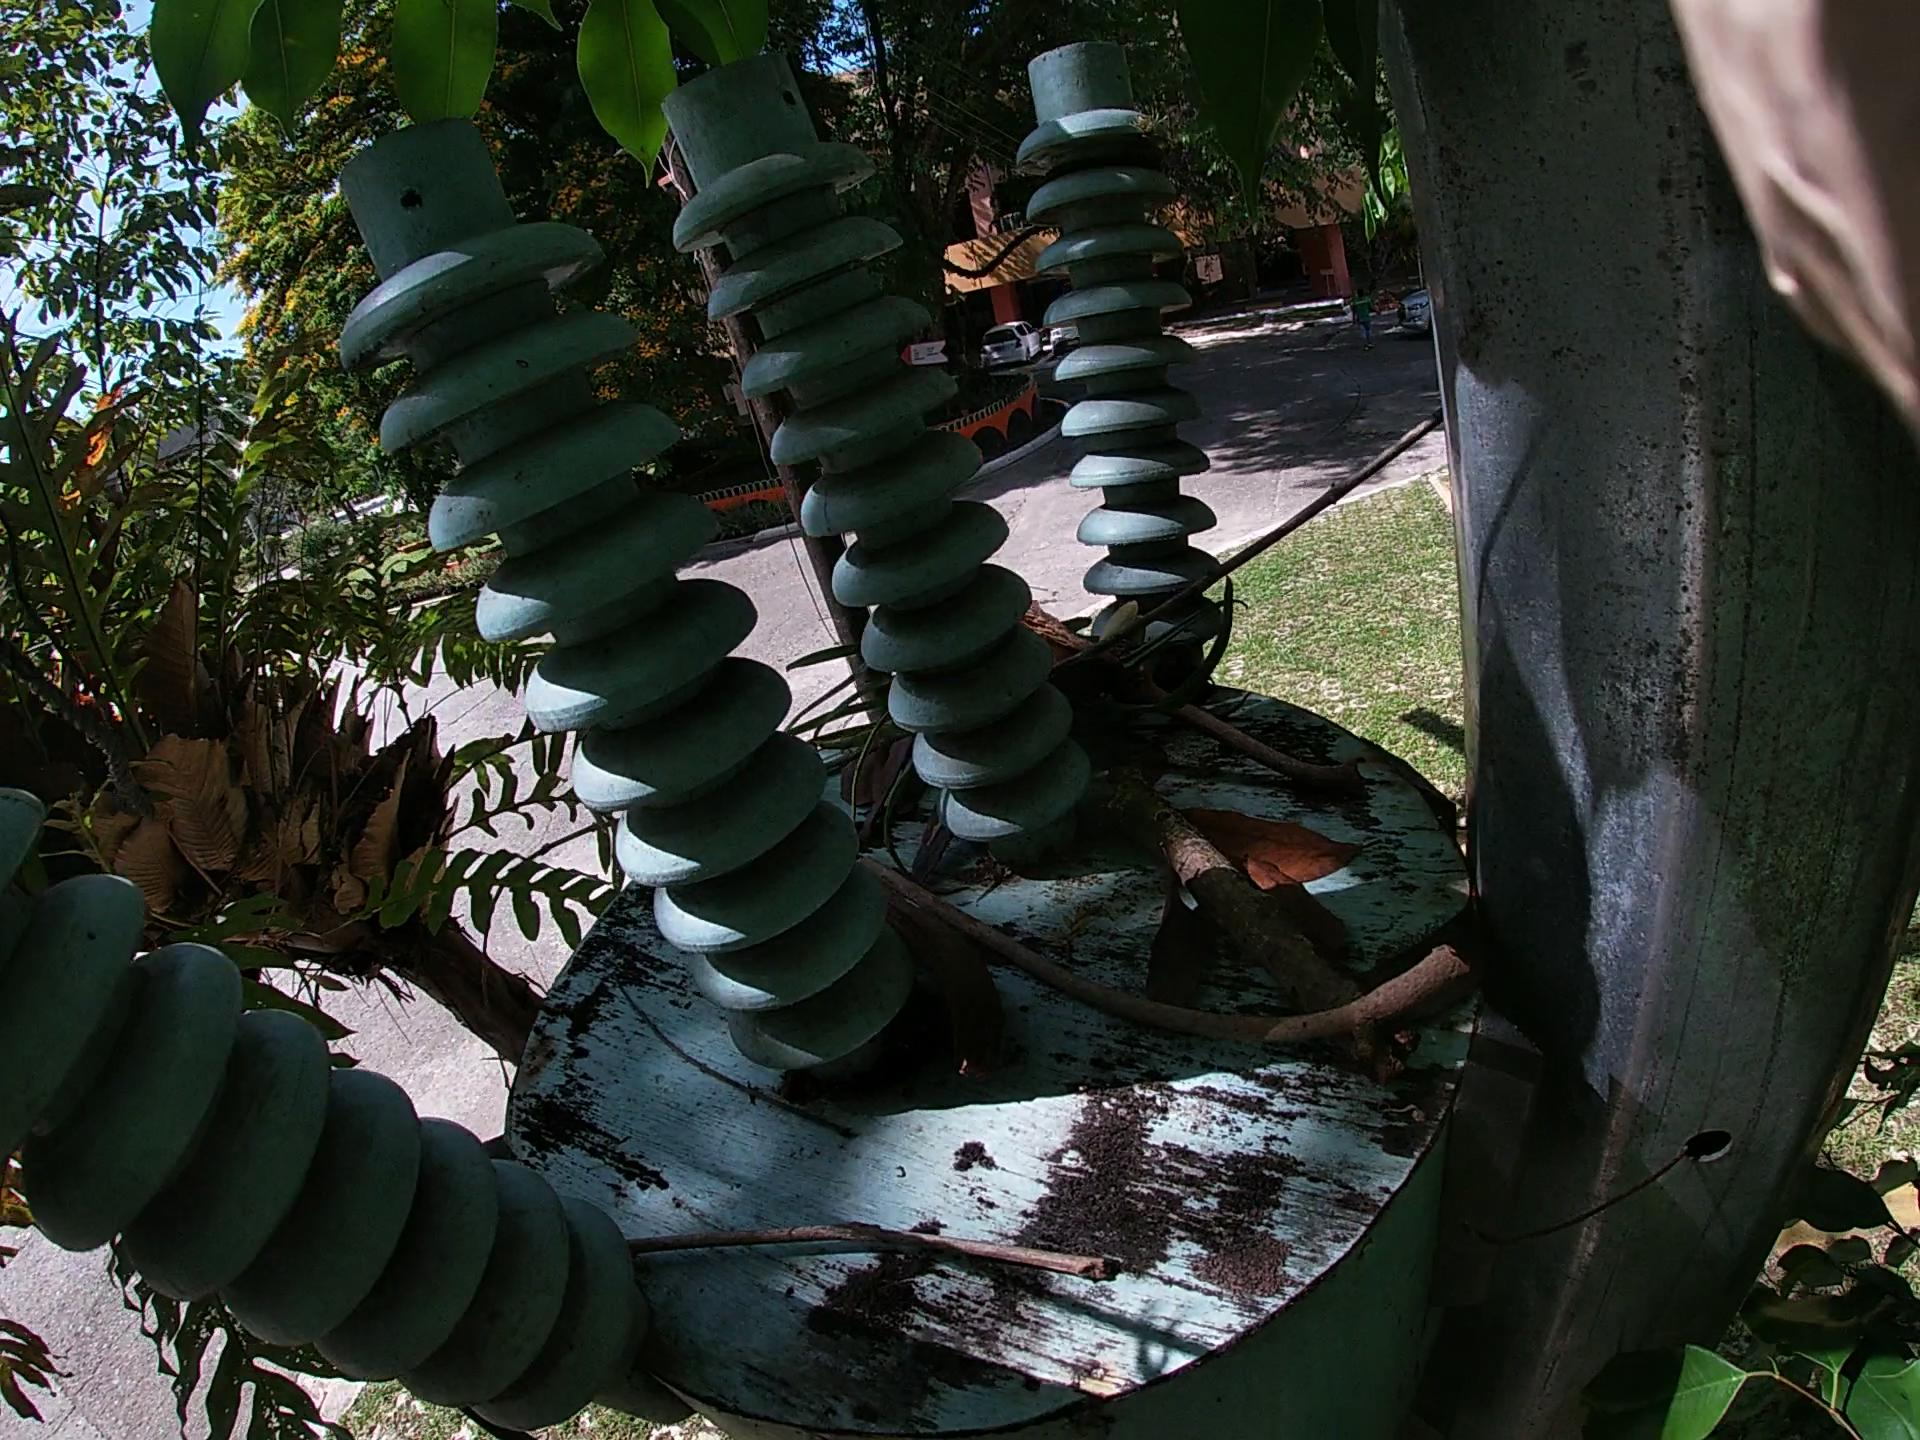branch with leaves: (990, 523, 1323, 1133)
leaf: (1107, 802, 1392, 1024)
tree branch: (943, 360, 1359, 762), (1095, 613, 1439, 836), (850, 961, 1539, 1069), (639, 1204, 1163, 1333)
